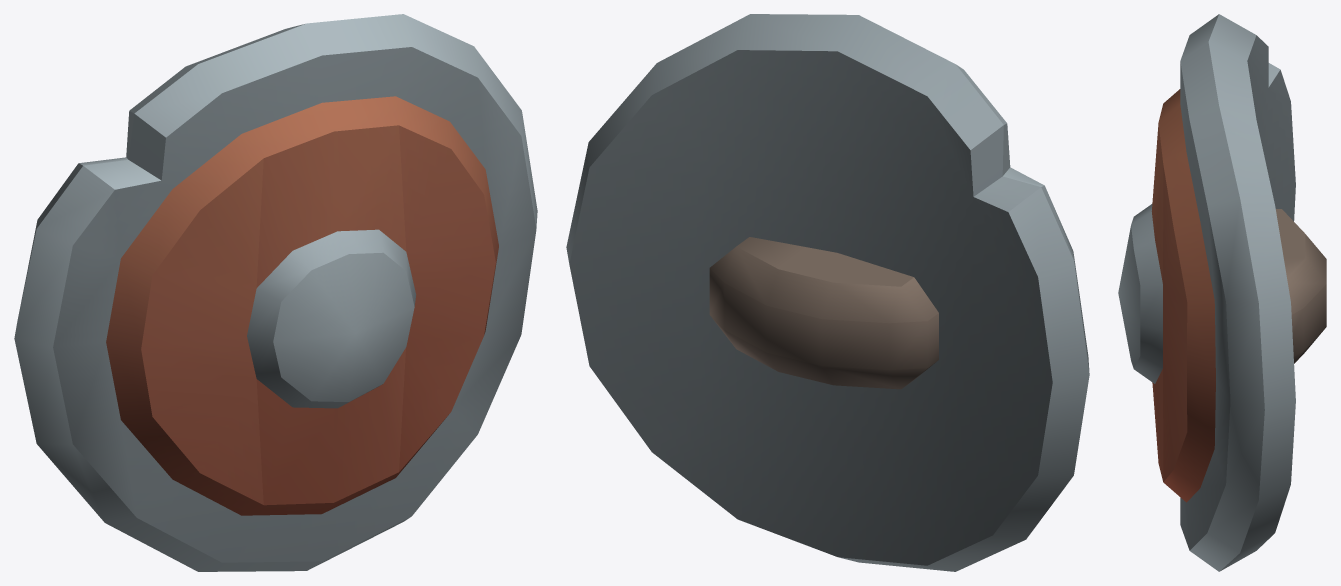
Rendered from shield_round.gltf.
The picture shows the model from 3 angles, left to right: view 1: azimuth 30°, elevation 25°; view 2: azimuth 150°, elevation 25°; view 3: azimuth 270°, elevation 25°; orthographic projection. The views are drawn at different scales.
Visible parts, largest first — view 1: shield_round; view 2: shield_round; view 3: shield_round.
Part boxes in pixels (x1,y1,x2,y2): shield_round: (14, 14, 537, 571); shield_round: (566, 14, 1089, 571); shield_round: (1118, 14, 1326, 571).
Size of the model in its own units: 0.8826 by 0.8826 by 0.332.
1 material, 1 textured.
